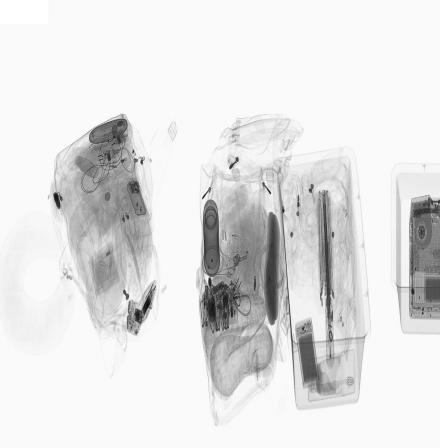Powerbank: (294, 315, 321, 390)
